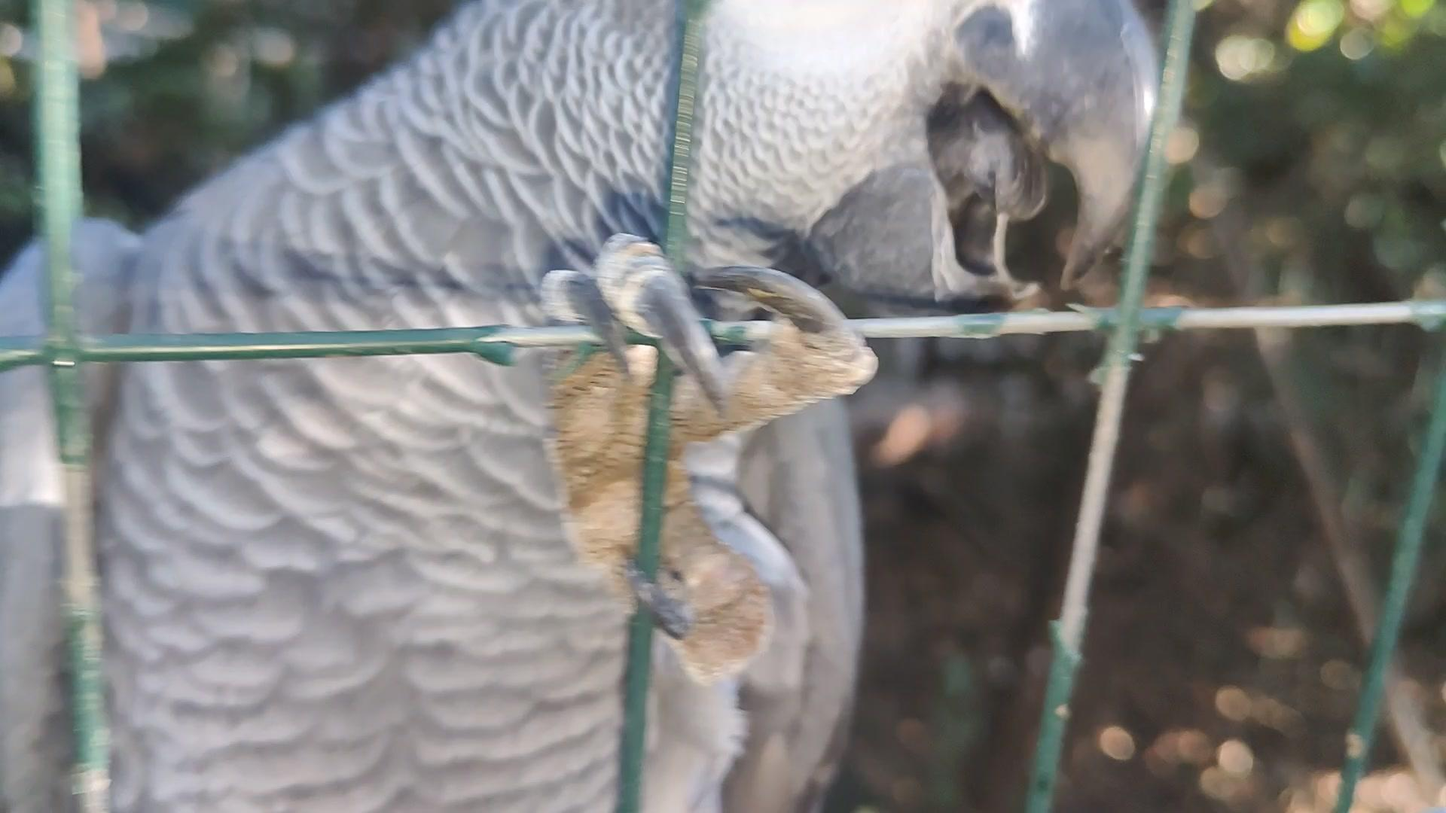apple: (0, 0, 1160, 813)
